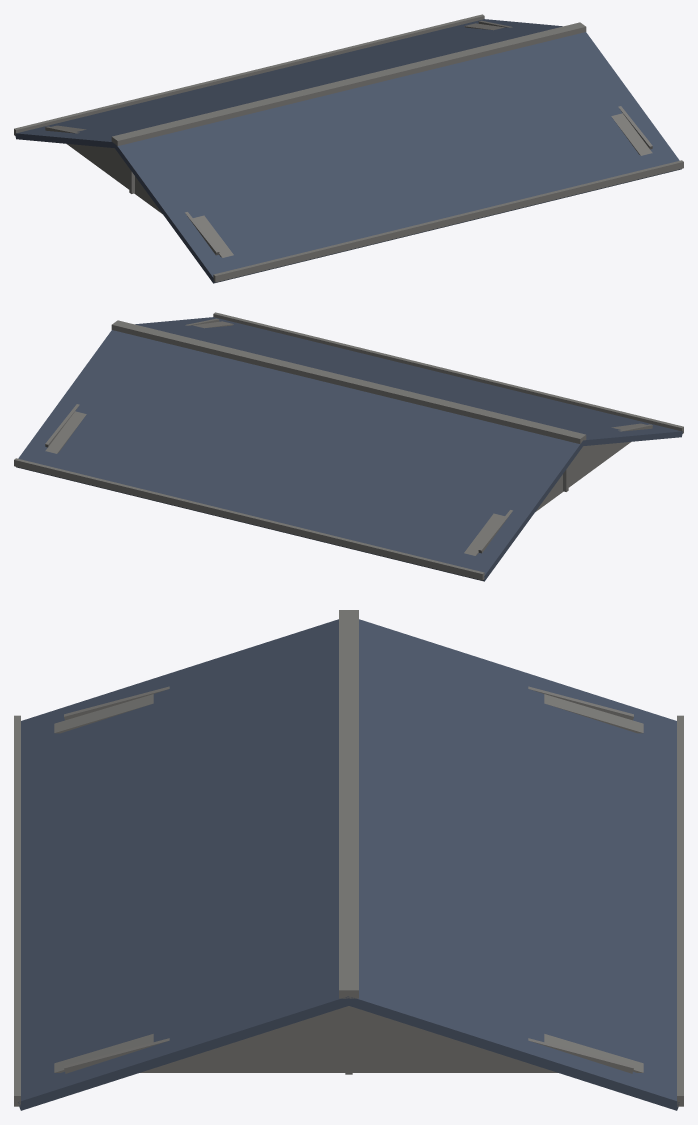
File: roof_crypt.glb
3 views of the same model, one above another, from view 1: azimuth 30°, elevation 25°; view 2: azimuth 150°, elevation 25°; view 3: azimuth 270°, elevation 25° (orthographic). The views are drawn at different scales.
Visible parts, largest first — view 1: roof_crypt; view 2: roof_crypt; view 3: roof_crypt.
Boxes of the visible parts, box(x1,y1,x2,y2) form: roof_crypt: box(14, 14, 683, 283); roof_crypt: box(14, 312, 683, 581); roof_crypt: box(14, 610, 683, 1110).
Size of the model in its own units: 15.2 by 2.25 by 11.32.
